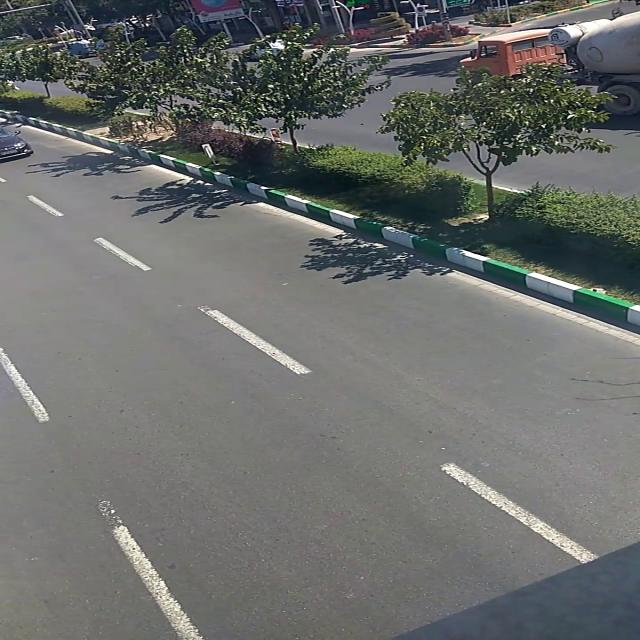car: (0, 126, 32, 164)
truck: (460, 11, 640, 115)
